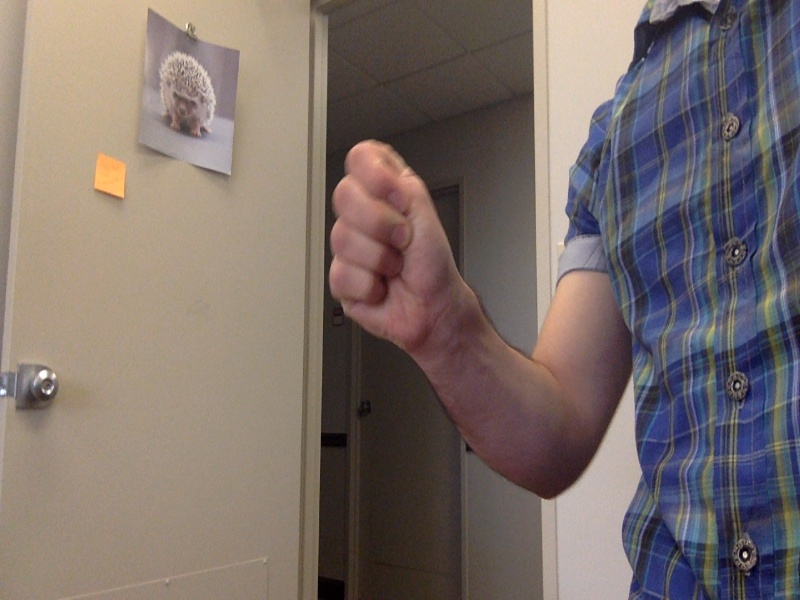0-hand: (331, 134, 444, 349)
